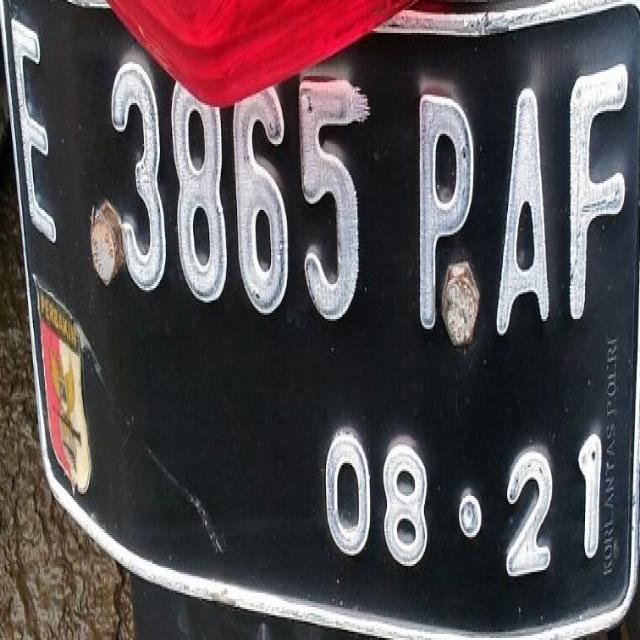plate: (0, 2, 637, 632)
